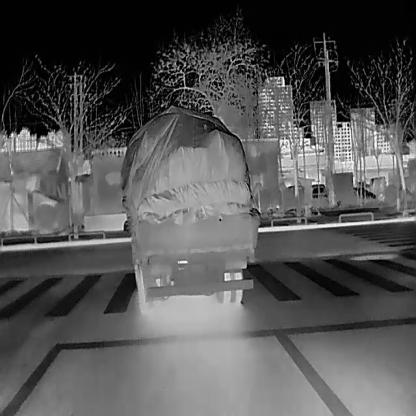car: (311, 183, 327, 197)
truck: (121, 103, 261, 314), (326, 170, 353, 204)
